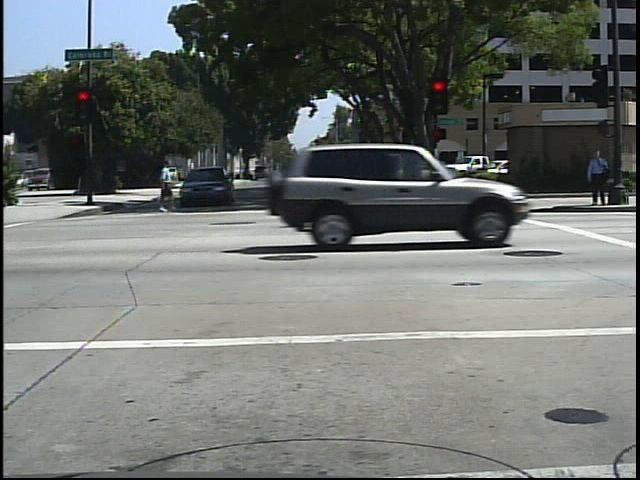person: (585, 143, 612, 209), (150, 156, 180, 215)
